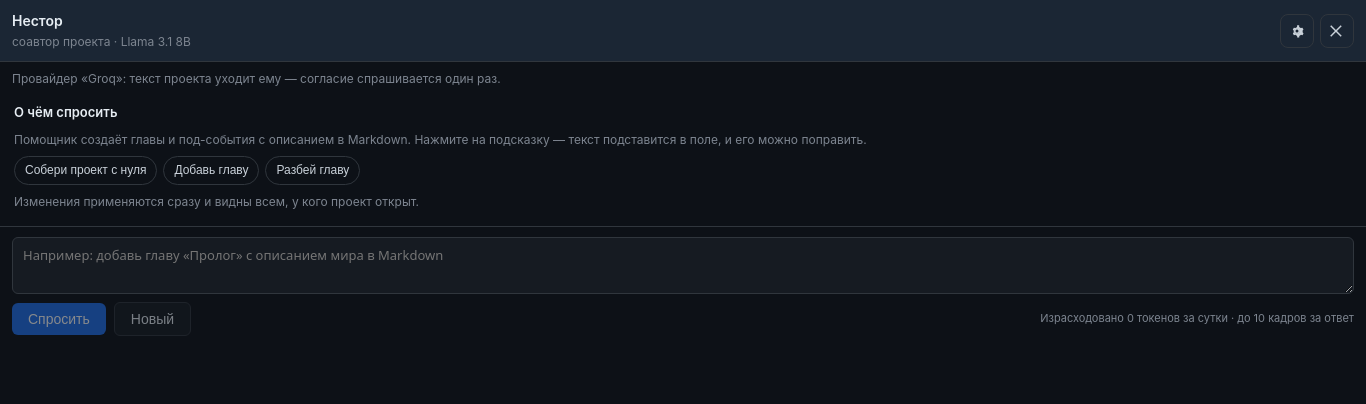
Test: AssistantPanel › на просьбу о согласии в ответе показывает согласие, а не «ошибку сервера»
The image size is (1366, 404).
Step 1. Type "Создай главу" into the text box named "Сообщение помощнику" → (683, 266), box [12,237,1354,294]
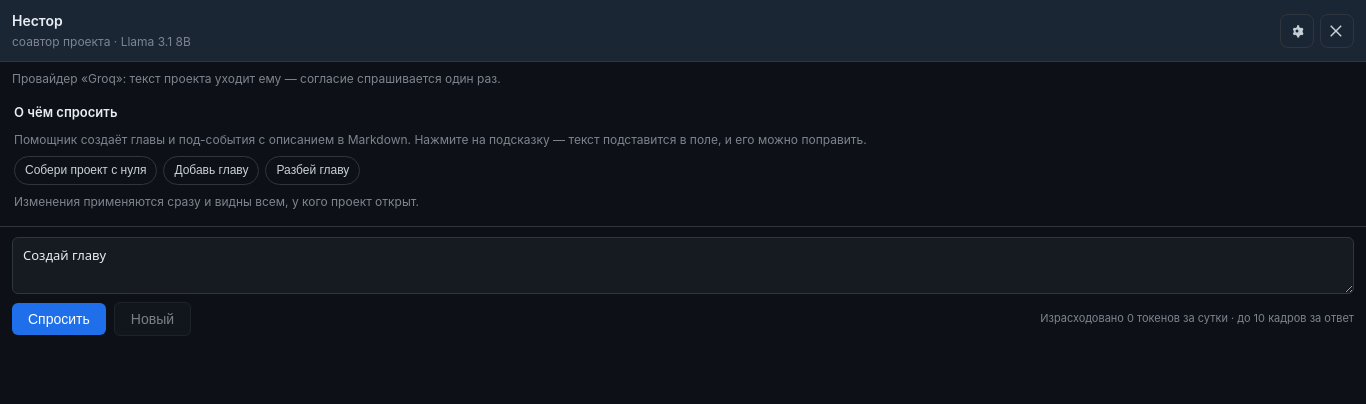
Step 2. Click the button "Спросить" → (59, 319), box [12,303,106,335]
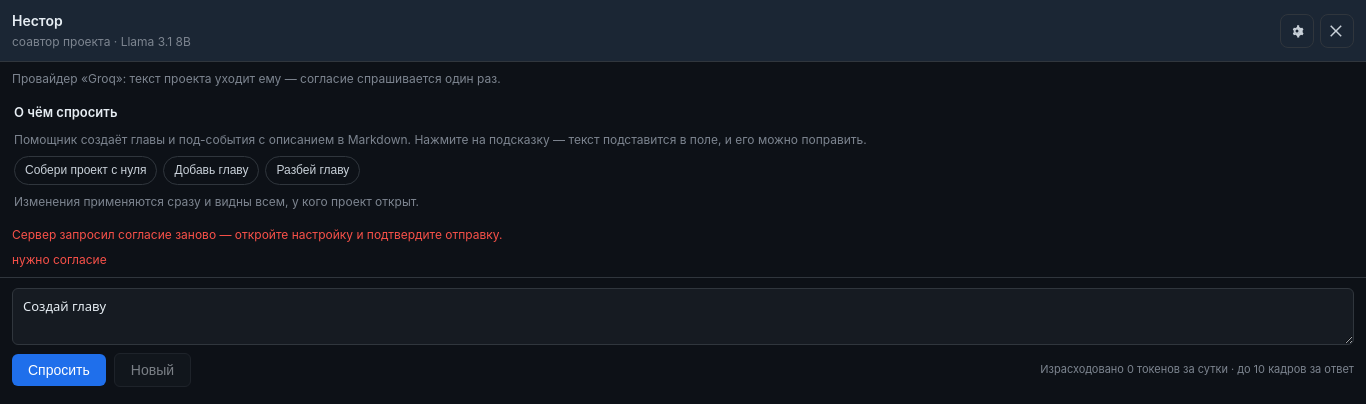
Result: the text "Сервер запросил согласие заново" is shown at [12,227,502,242]
